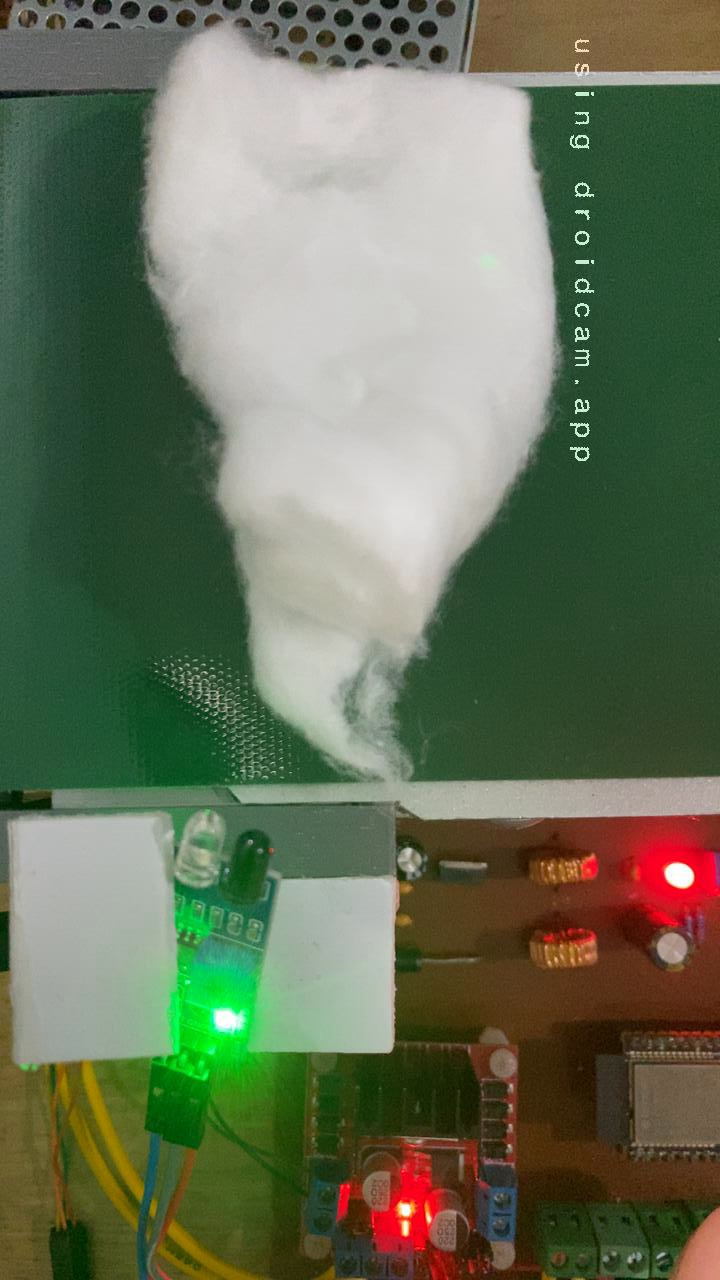cotton: (134, 91, 720, 811)
